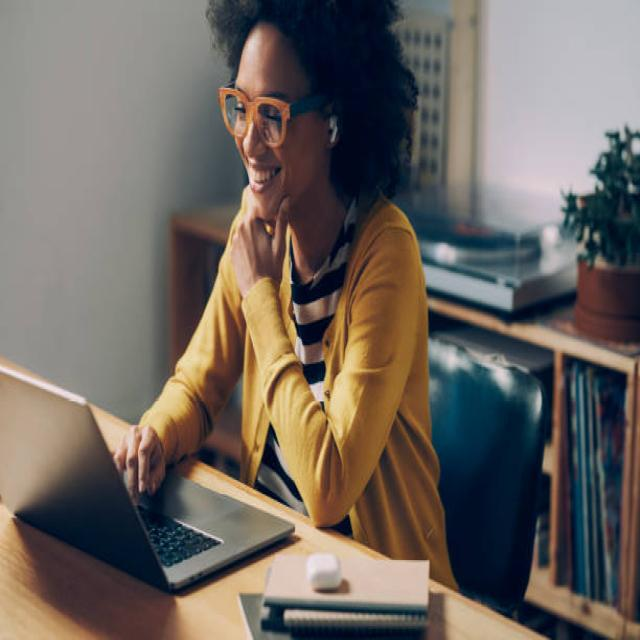airpods: (328, 111, 340, 146)
